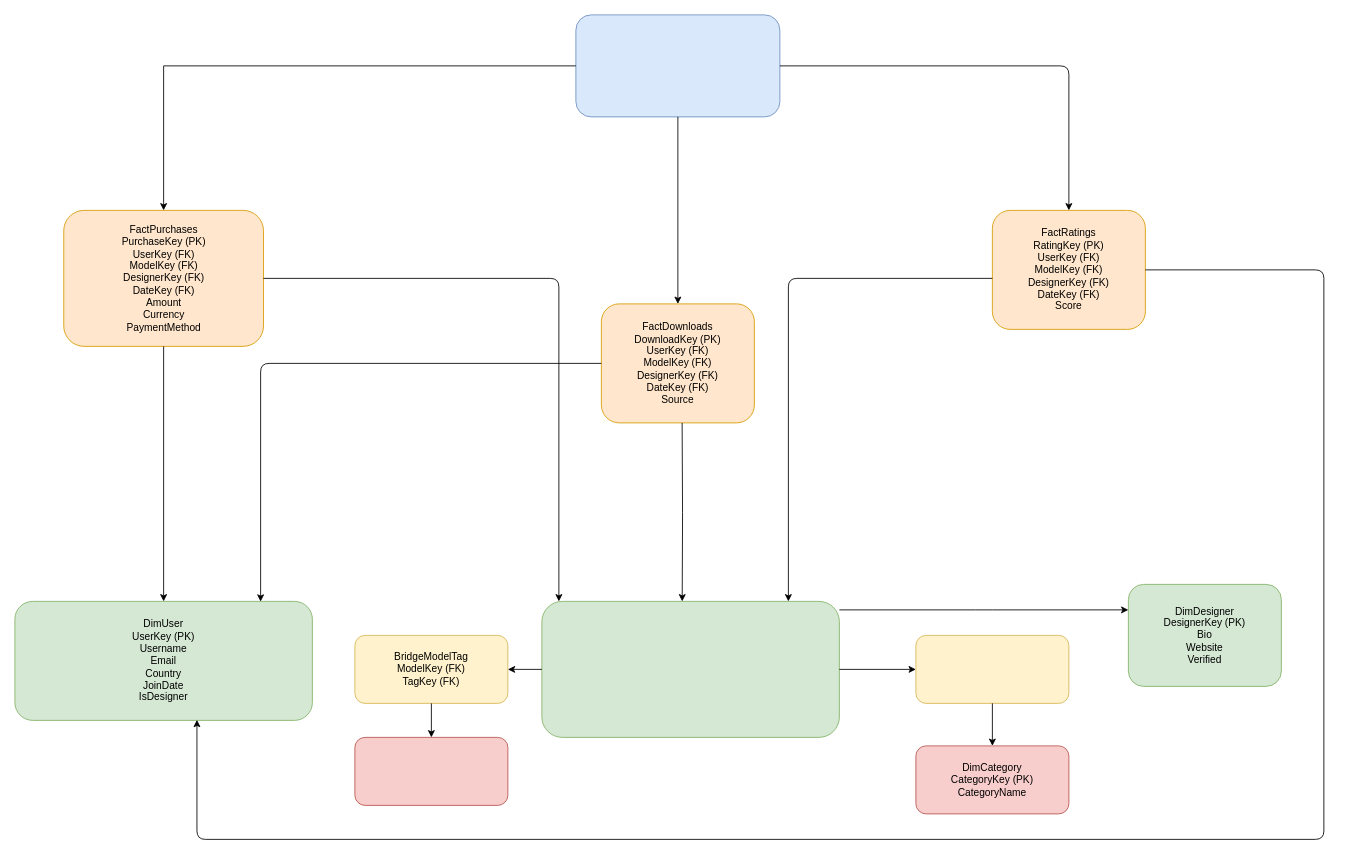
The diagram is 1346 pixels wide and 861 high, and some of its shapes have lost their labels. Here are the shapes that lost their labels. From the top down, the centre of each, then its label:
At [677,65]: "DimDate DateKey (PK) FullDate Day Month MonthName Quarter Year".
At [690,669]: "DimModel ModelKey (PK) Title Price License IsFree AvgRating DesignerKey (FK)".
At [992,669]: "BridgeModelCategory ModelKey (FK) CategoryKey (FK)".
At [431,771]: "DimTag TagKey (PK) TagName".
